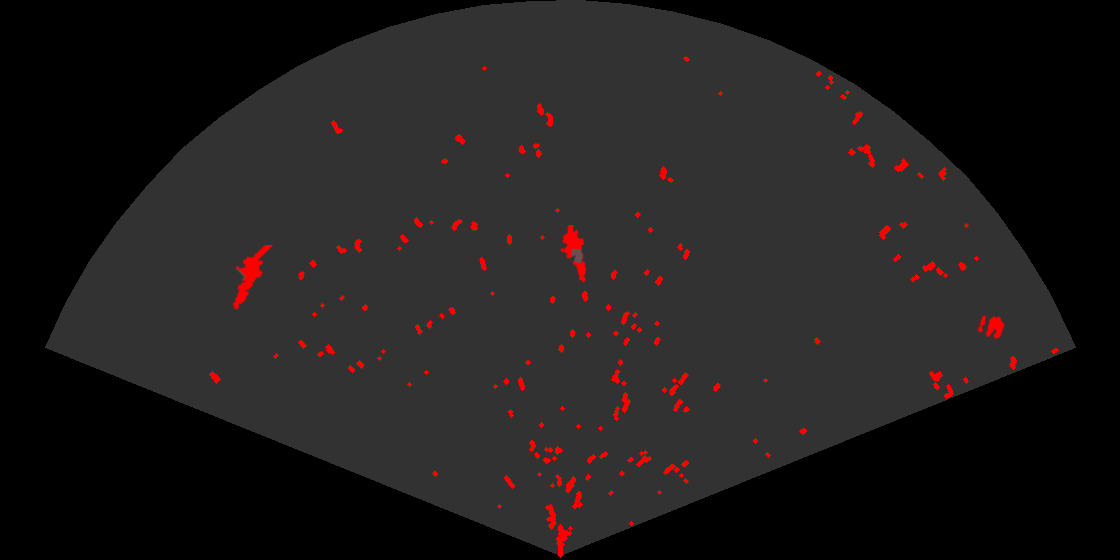ball: (976, 314, 1006, 341)
frogman: (231, 245, 275, 311), (558, 225, 588, 283)
